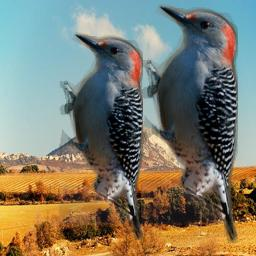Woodpecker: (141, 0, 238, 243), (59, 29, 143, 240)
